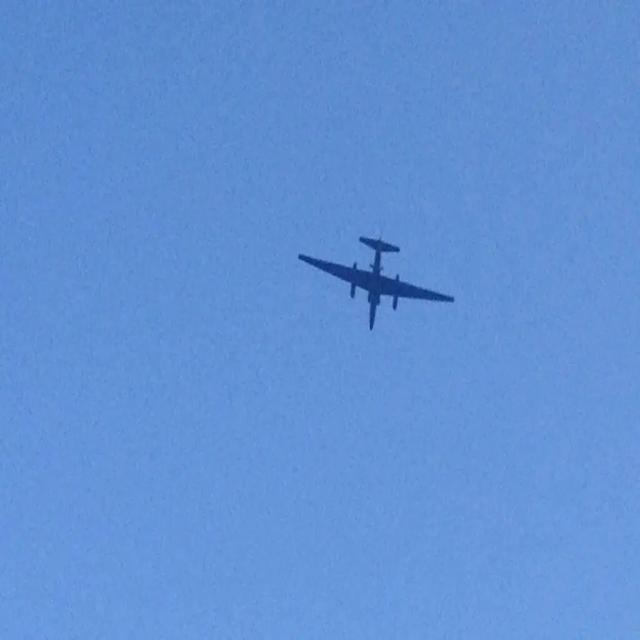MIL_Plane: (298, 231, 455, 331)
